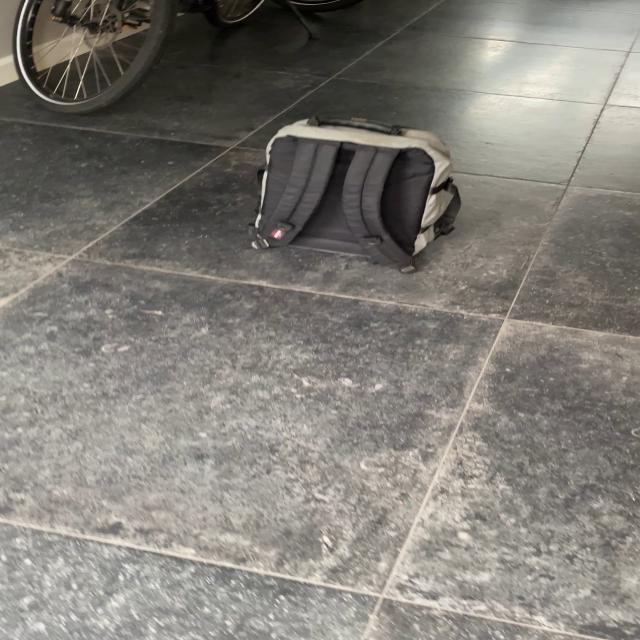backpack: (242, 110, 470, 267)
